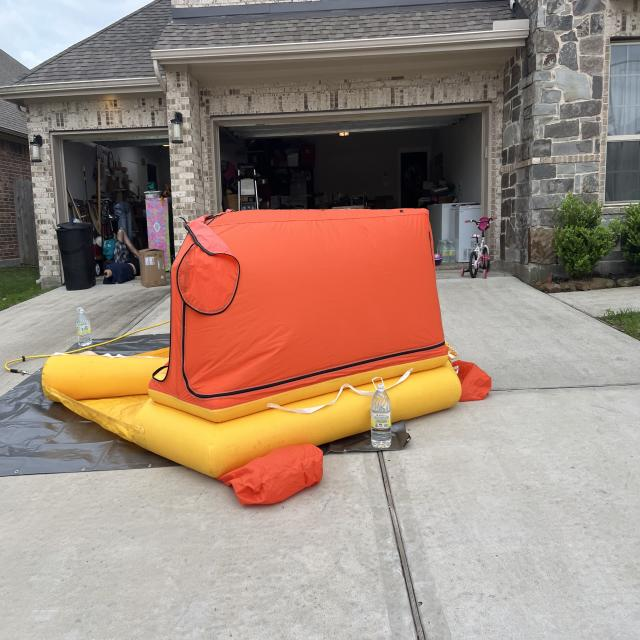Multi-person_life_raft: (40, 208, 492, 507)
